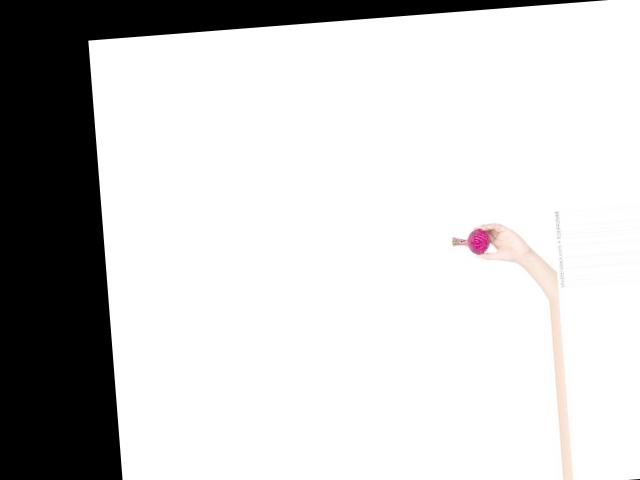beet: (450, 227, 490, 256)
